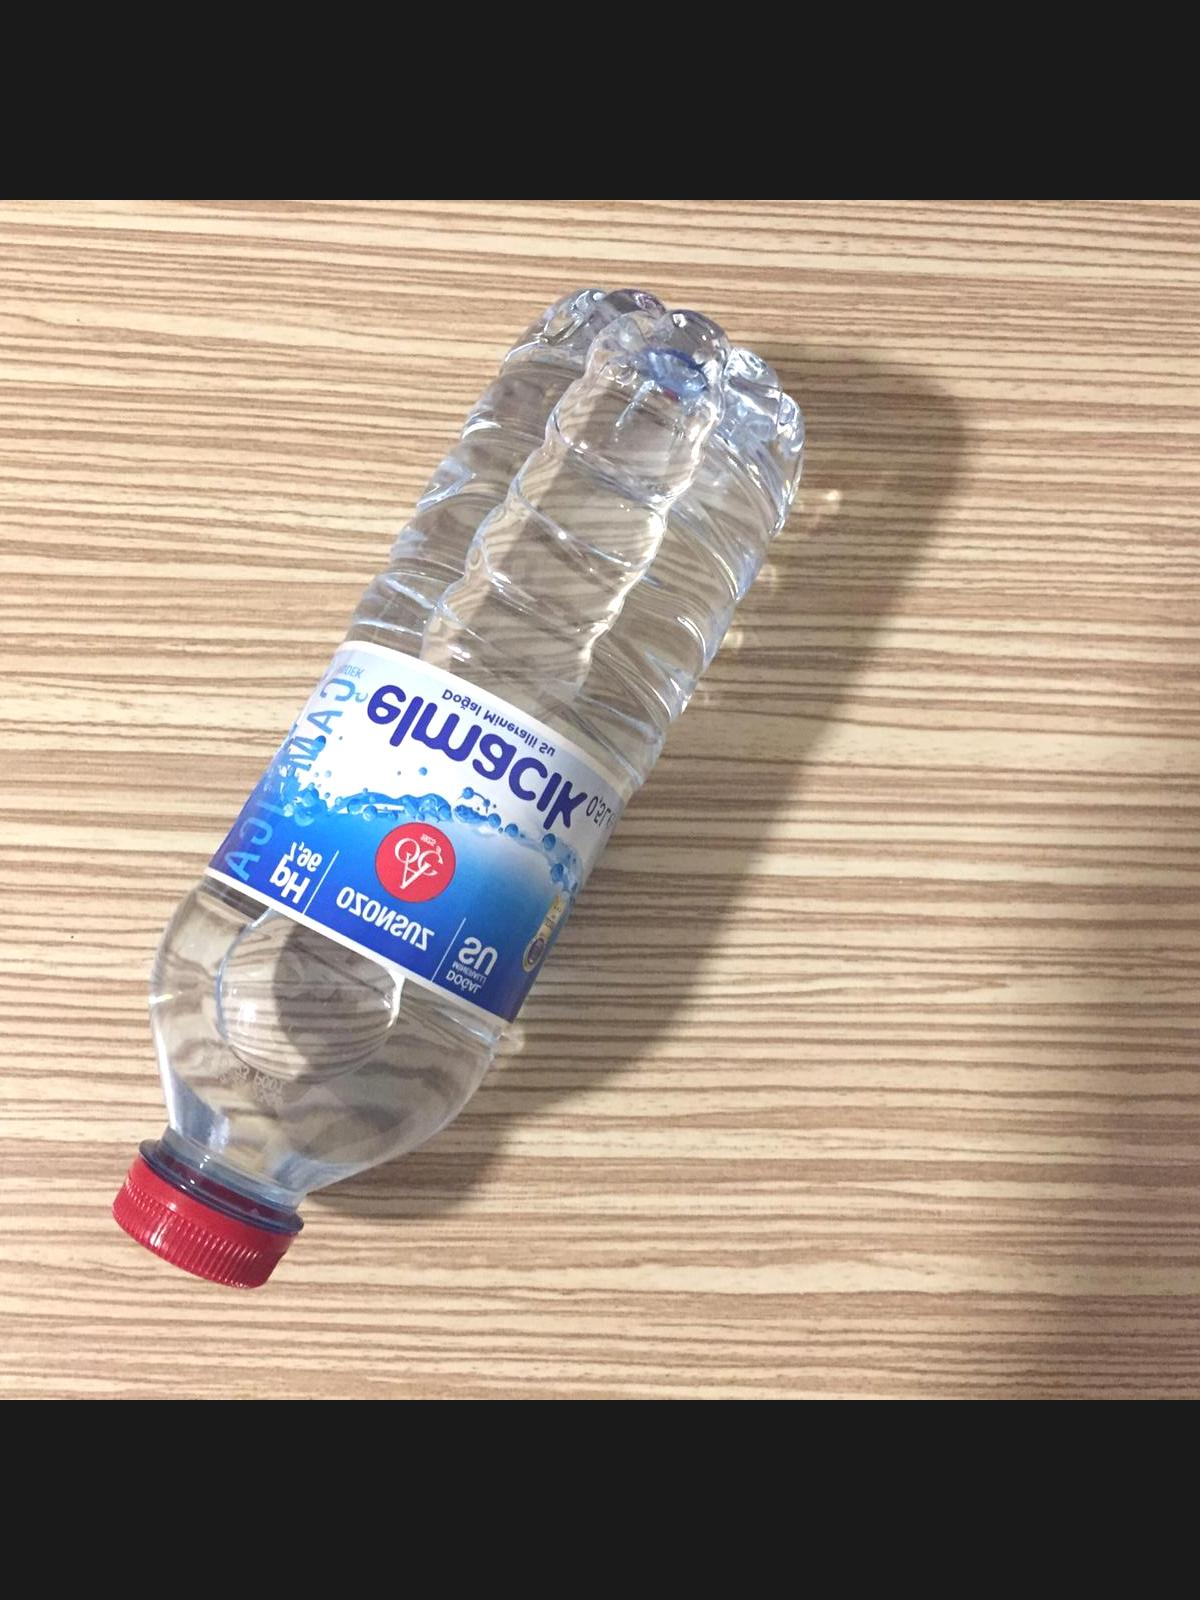bottle: (103, 291, 808, 1285)
